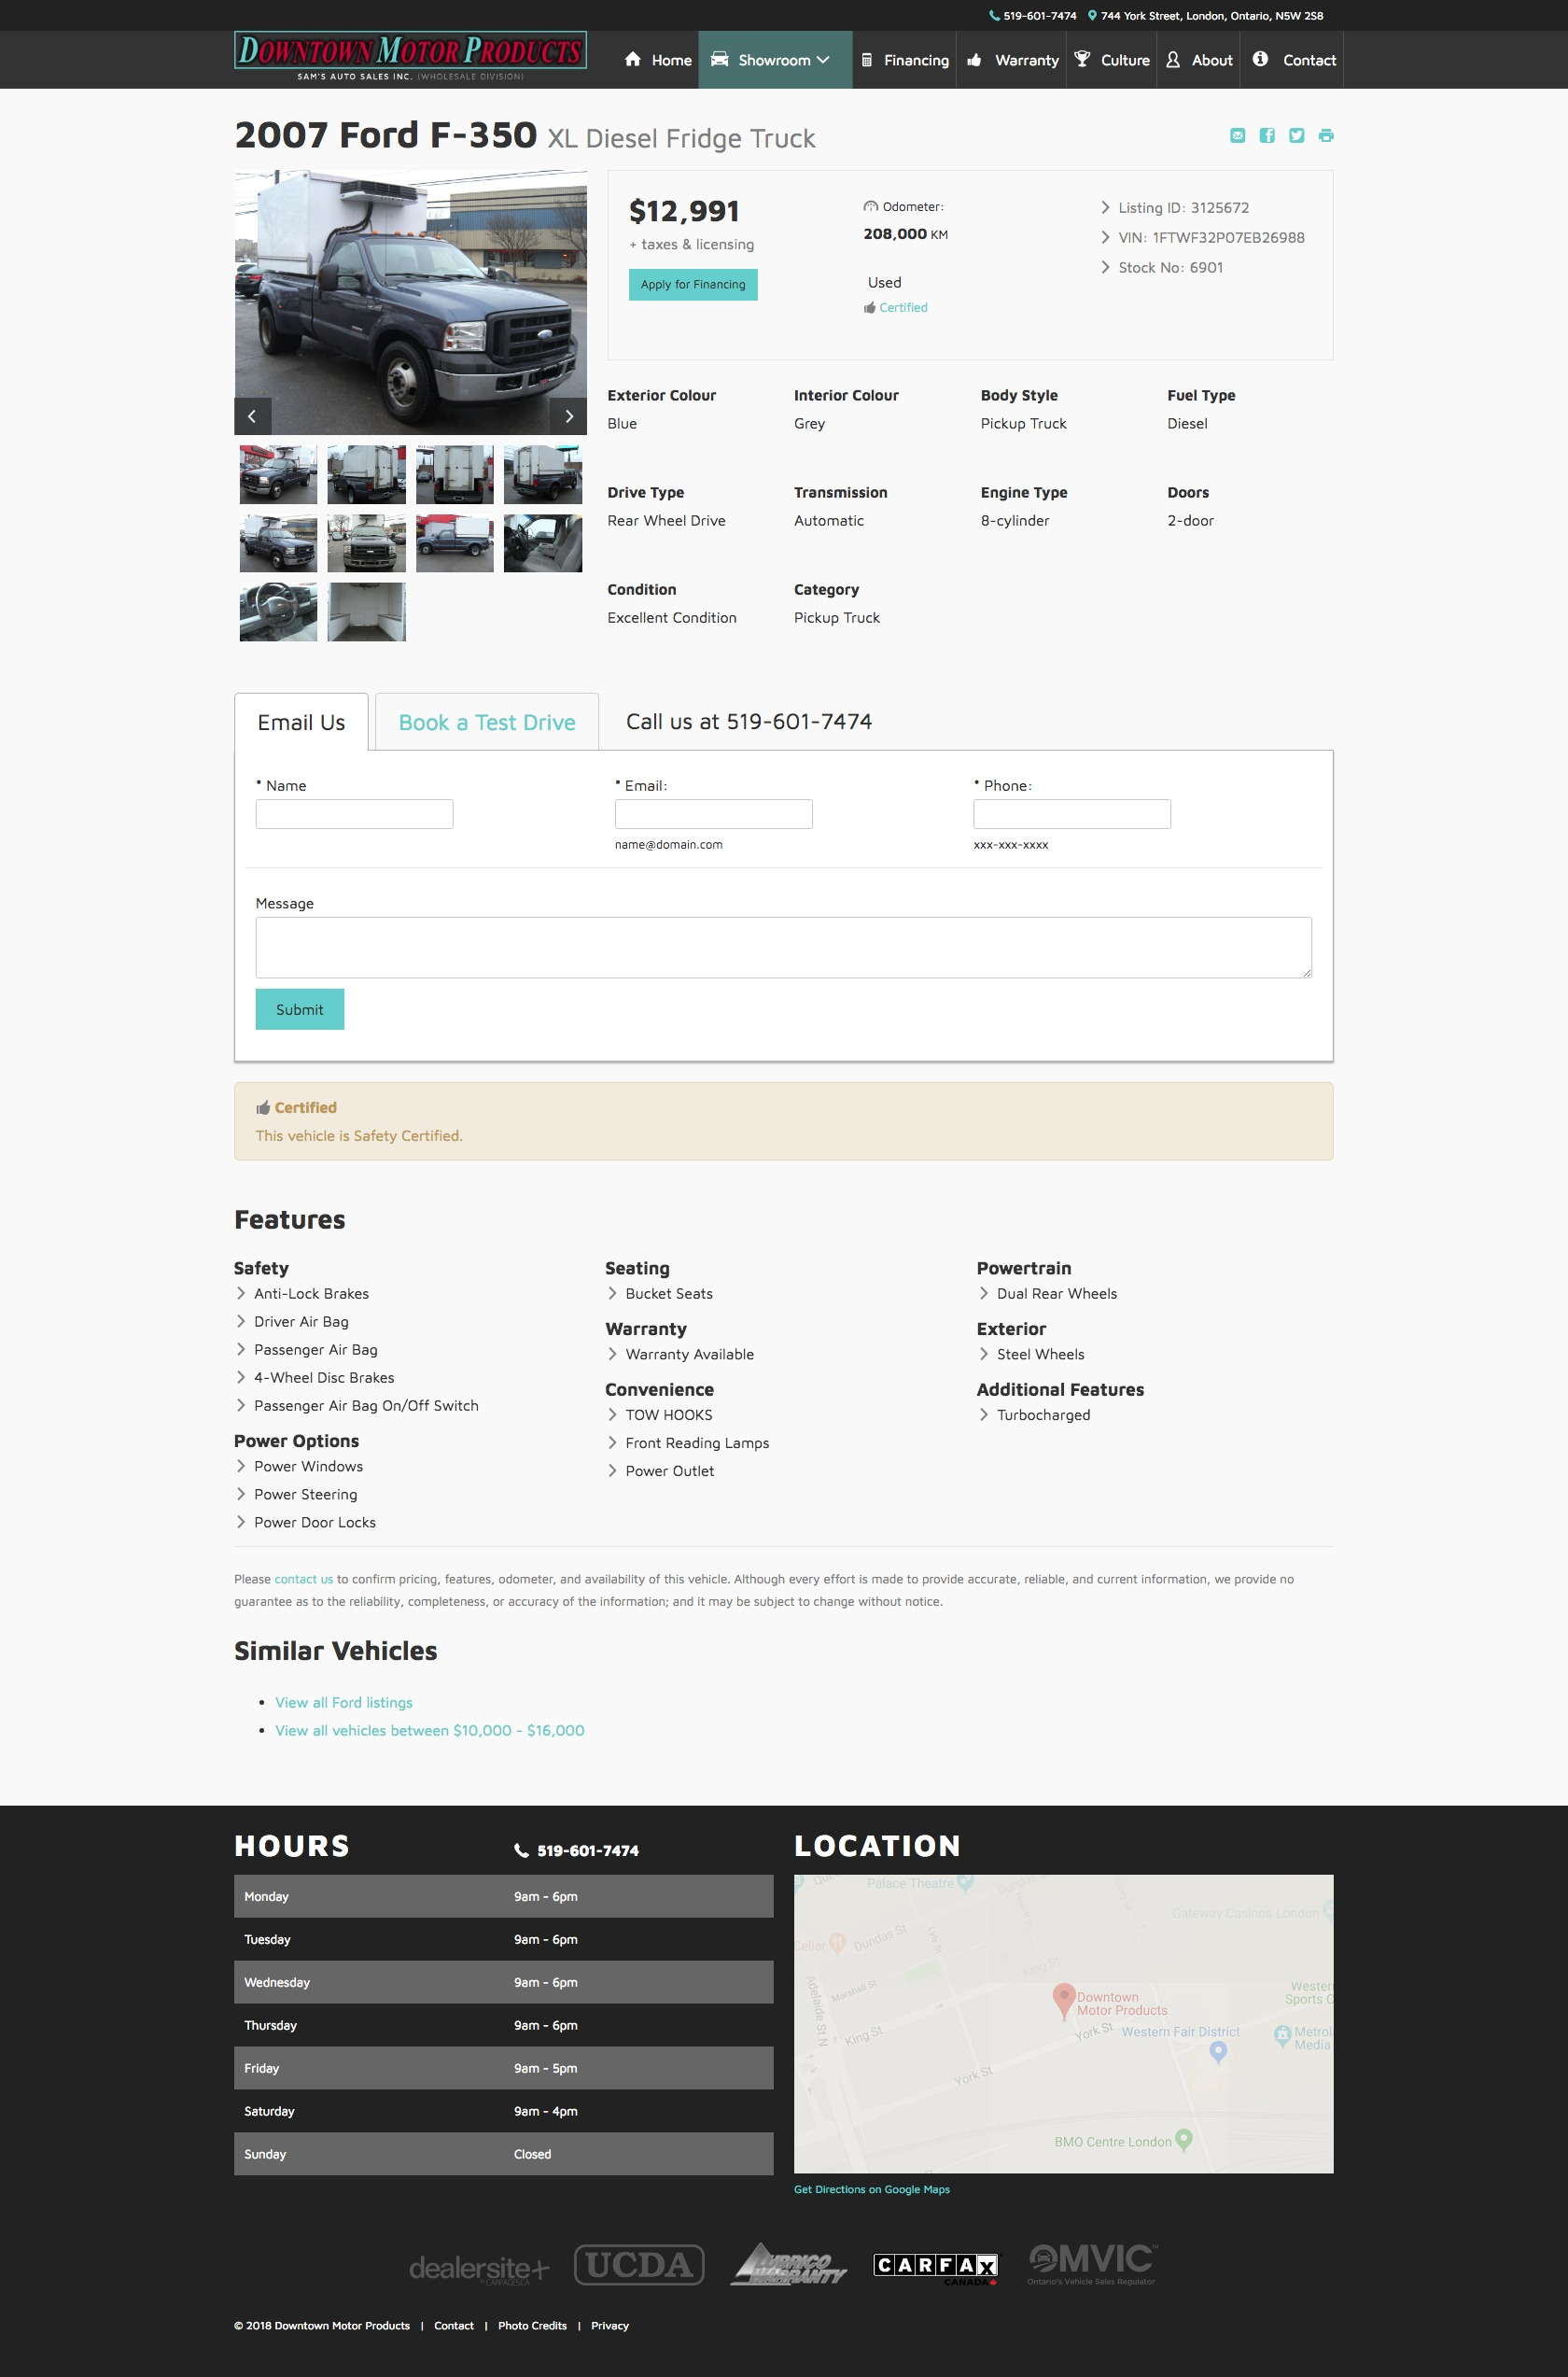car: (551, 397, 590, 438)
